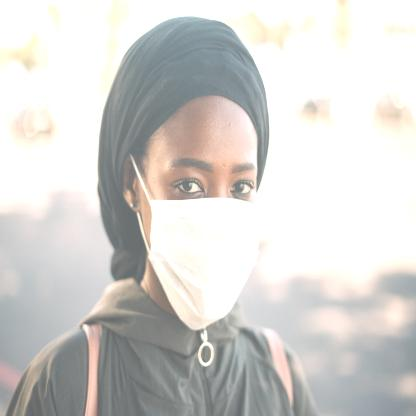dress: (128, 162, 258, 332)
